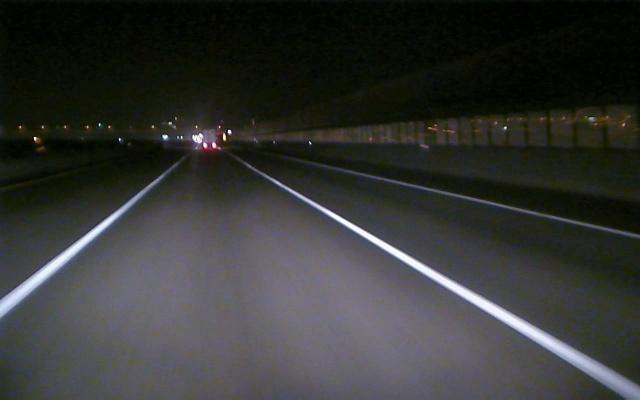lane: (247, 166, 633, 396), (3, 176, 164, 316), (342, 170, 640, 239)
